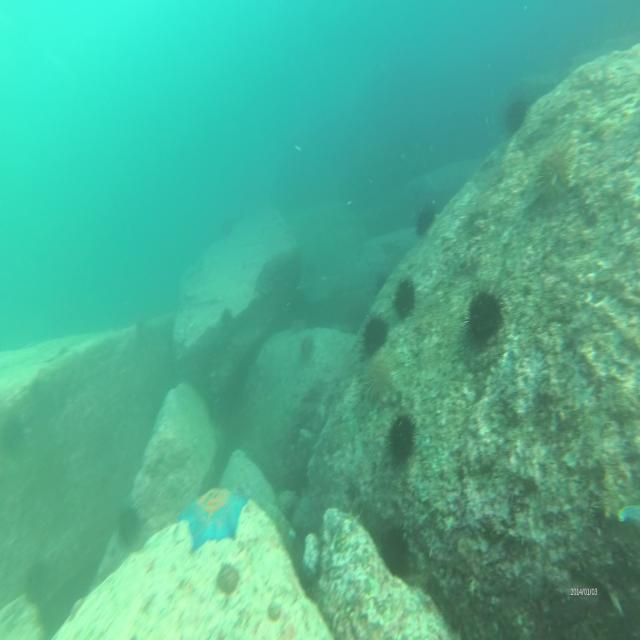echinus: (537, 144, 577, 206), (376, 520, 416, 581), (468, 289, 508, 344), (383, 411, 417, 463), (21, 562, 51, 605), (362, 357, 392, 398), (116, 507, 143, 551), (358, 314, 389, 351), (393, 279, 418, 320), (502, 96, 530, 130), (412, 205, 438, 236), (300, 331, 316, 364)
starfish: (177, 481, 251, 552)
